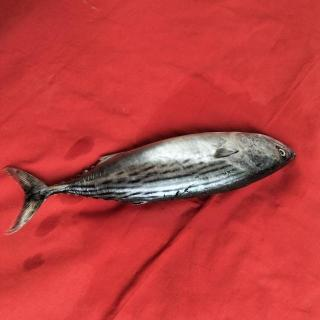Ikan: (7, 125, 301, 245)
